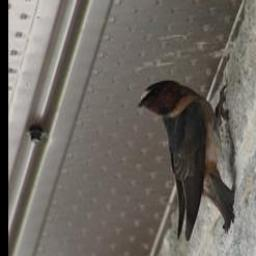Swallow: (138, 79, 239, 241)
